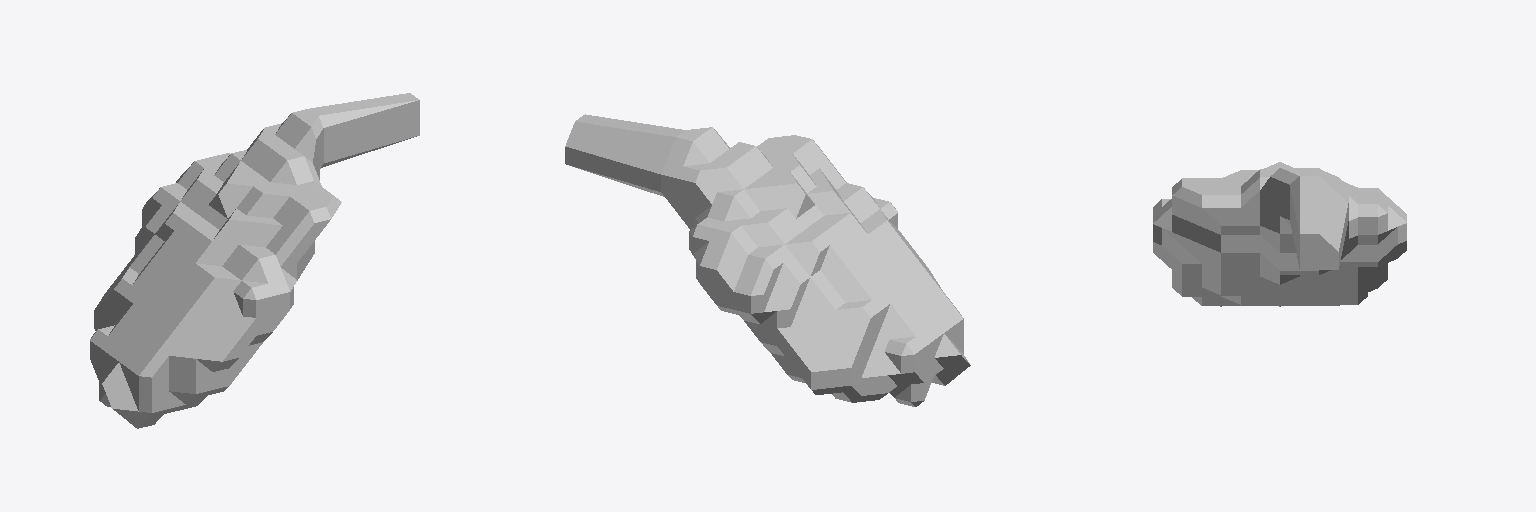
File: brein_02_fake.obj
3 views of the same model, side by side, from view 1: azimuth 30°, elevation 25°; view 2: azimuth 150°, elevation 25°; view 3: azimuth 270°, elevation 25° (orthographic).
Visible parts, largest first — view 1: BI3T_STh_L.001_BI3T_STh_L.002; view 2: BI3T_STh_L.001_BI3T_STh_L.002; view 3: BI3T_STh_L.001_BI3T_STh_L.002.
Boxes of the visible parts, box(x1,y1,x2,y2) form: BI3T_STh_L.001_BI3T_STh_L.002: box(90, 93, 419, 428); BI3T_STh_L.001_BI3T_STh_L.002: box(565, 114, 970, 406); BI3T_STh_L.001_BI3T_STh_L.002: box(1153, 162, 1406, 306).
Size of the model in its own units: 1.94 by 1.23 by 1.23.